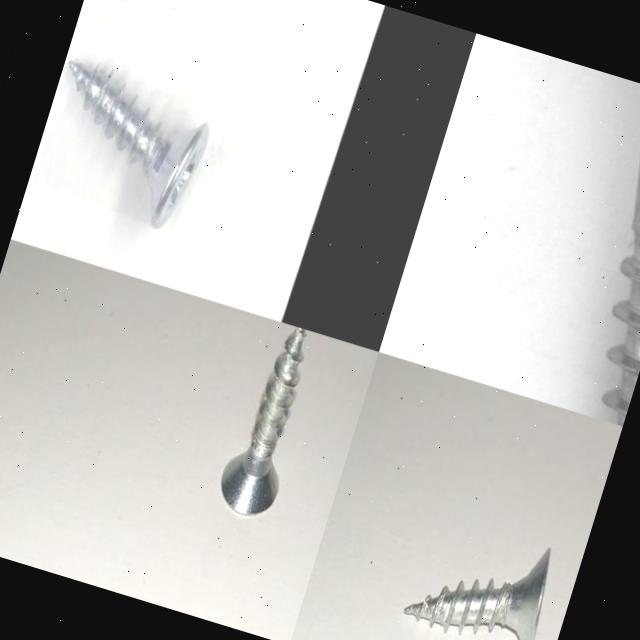Screw: (463, 59, 640, 426), (69, 61, 209, 228), (221, 326, 306, 514), (403, 546, 550, 640)
